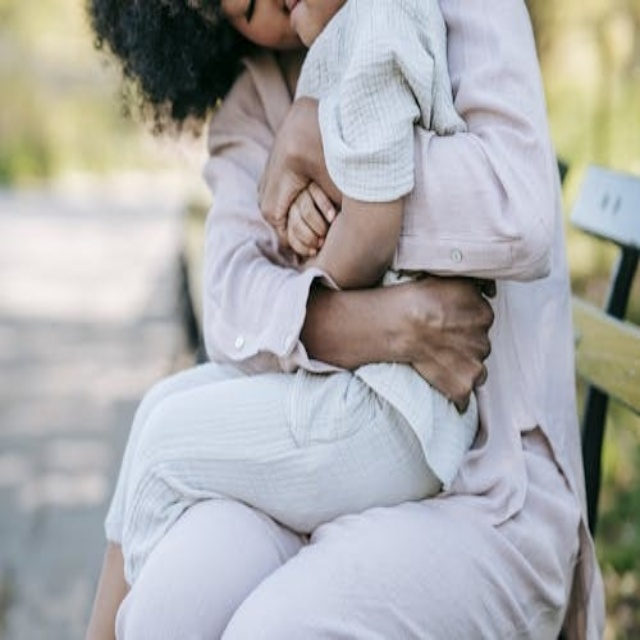Sin_guantes: (379, 271, 496, 408), (286, 181, 335, 258)
